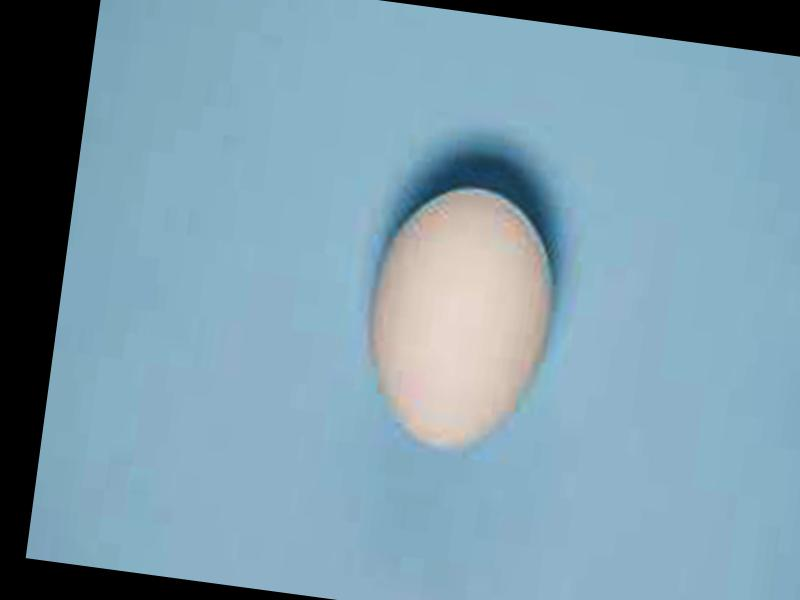Eggs: (353, 176, 564, 463)
